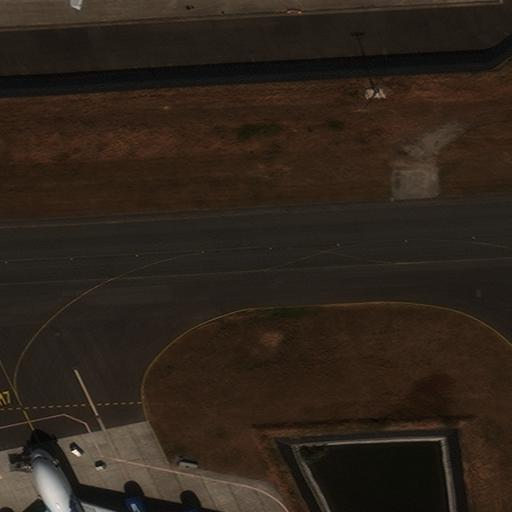Large Civil Transport: (0, 448, 183, 511)
